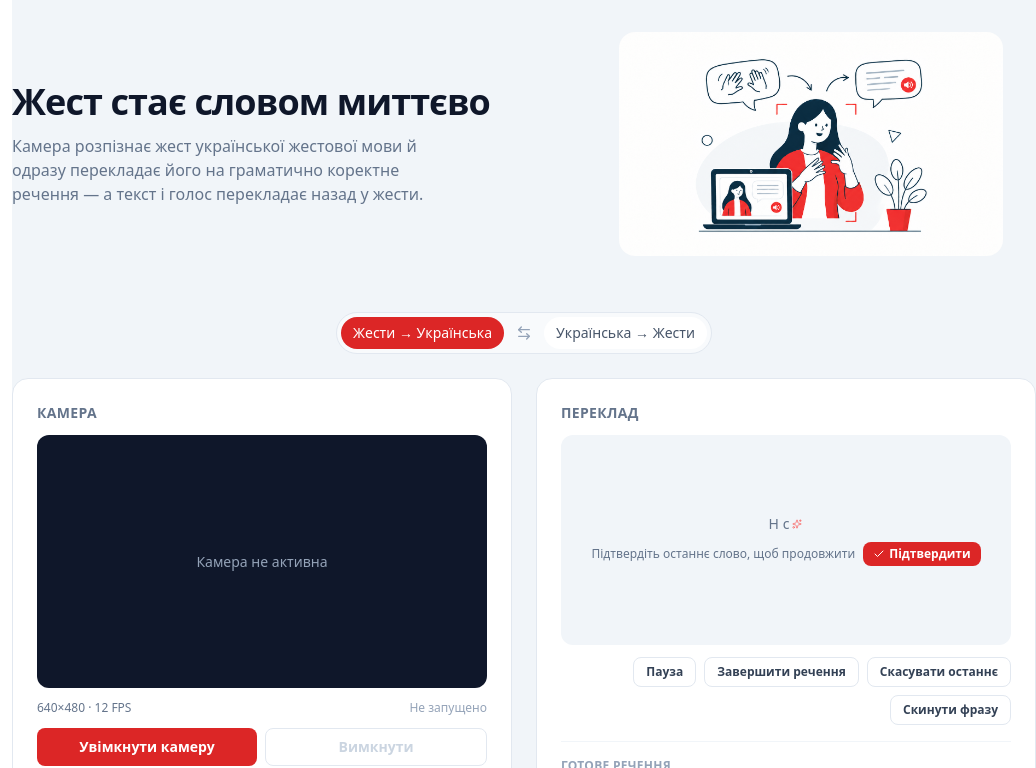
it: TranslatorView › a letter inside an ALREADY-FINALIZED fingerspelled word can still be corrected from its real ranked alternatives
The image size is (1036, 768).
Click the button named "Виправити літеру «С»".
click(792, 524)  # box [781,514,804,534]
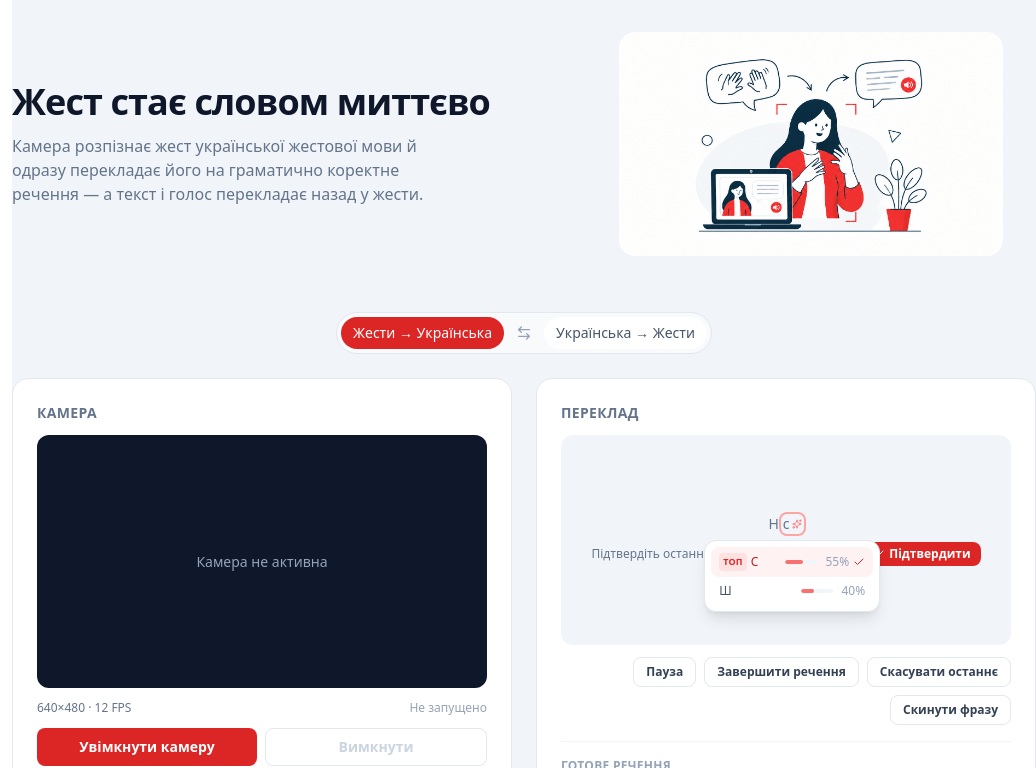
Click the option "Ш 40%".
click(792, 591)  # box [711,577,873,605]
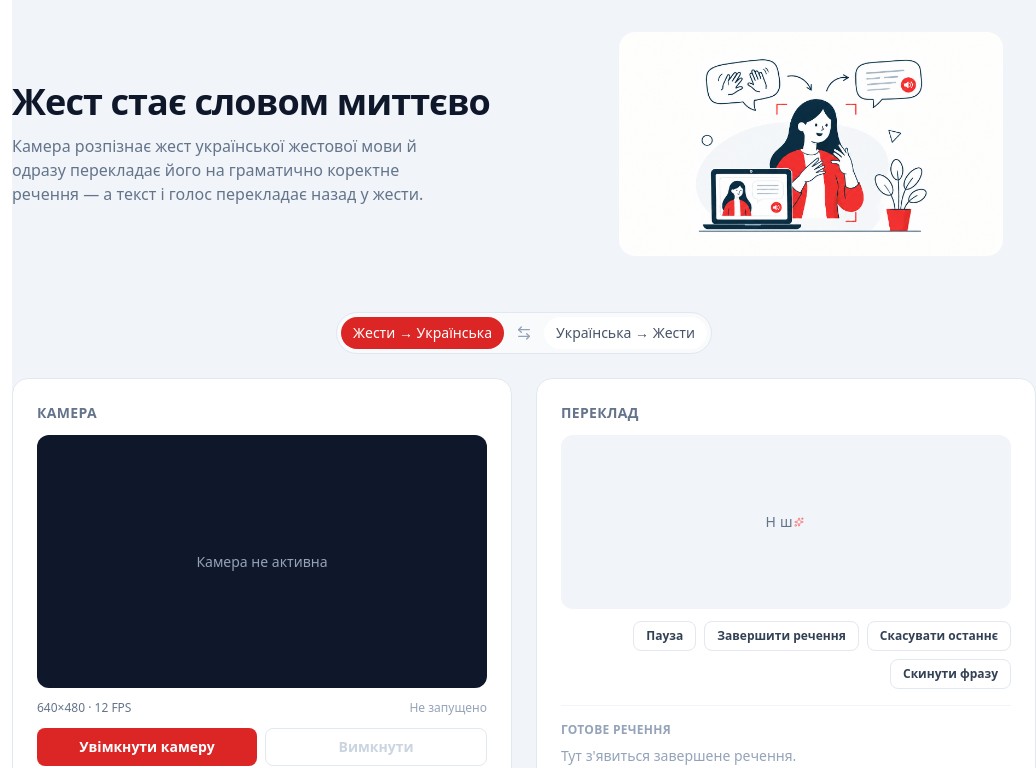
expect the button named "Виправити літеру «Ш»" is shown: met, box [778,512,806,532]
Click the button "Завершити речення".
click(782, 636)  # box [704,621,859,651]
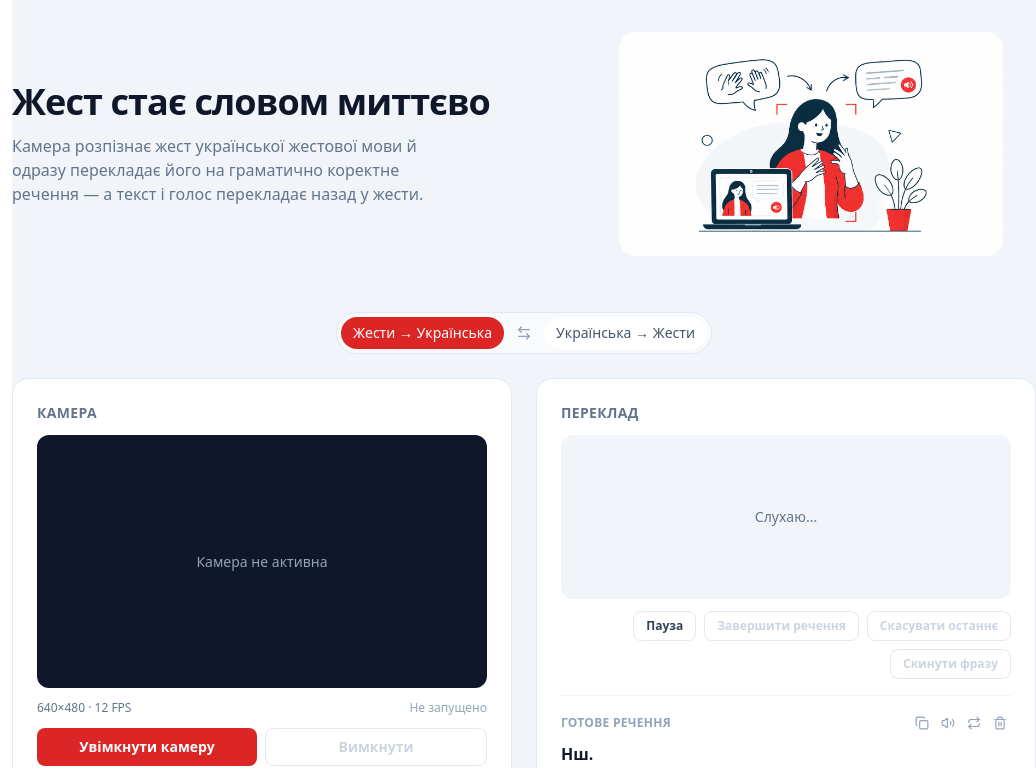
expect the element with test id "final-translation" shows "Нш.": met, box [561,743,593,765]
